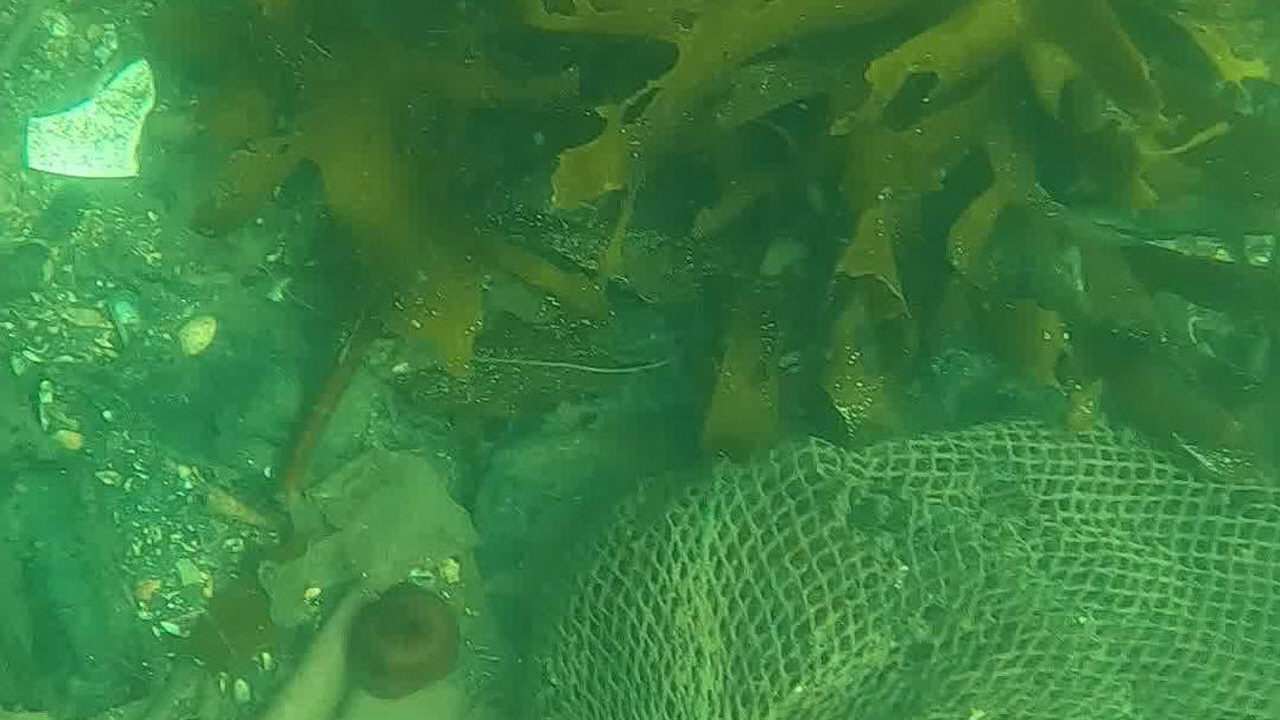fish net: (538, 420, 1280, 720)
